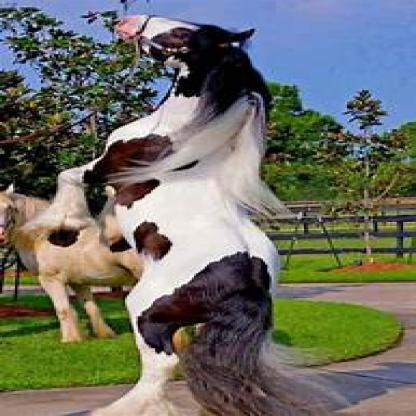horse: (38, 15, 300, 415)
